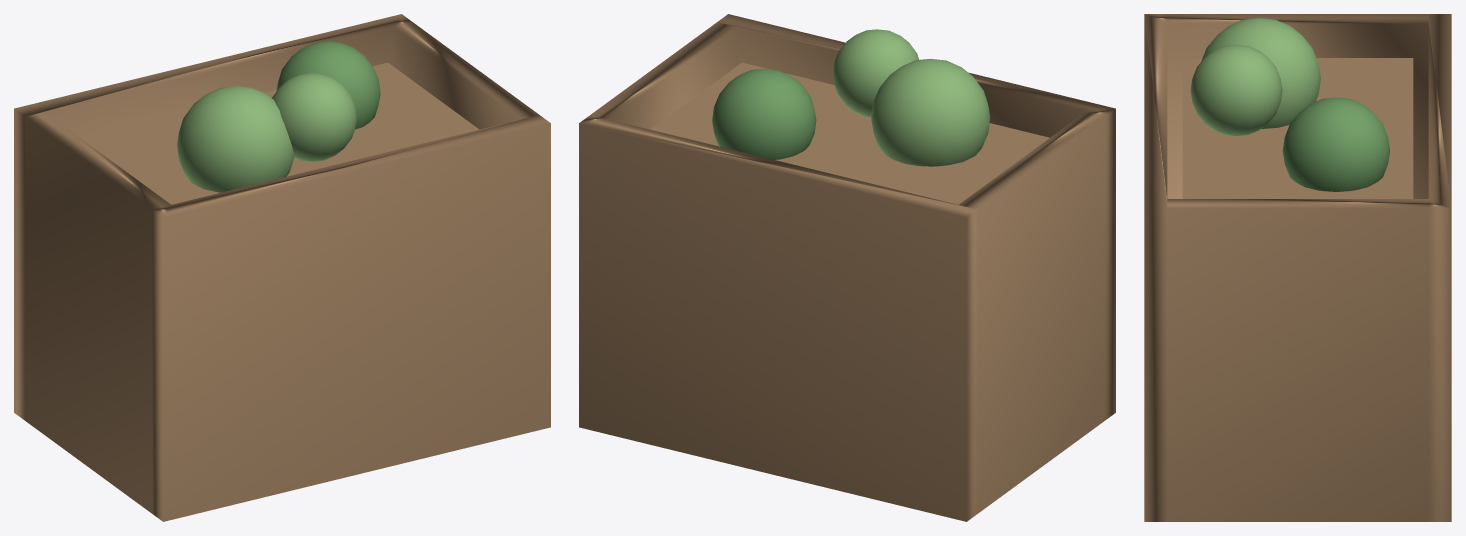
Rendered from planter_box.glb.
The picture shows the model from 3 angles, left to right: view 1: azimuth 30°, elevation 25°; view 2: azimuth 150°, elevation 25°; view 3: azimuth 270°, elevation 25°; orthographic projection. The views are drawn at different scales.
Visible parts, largest first — view 1: merged_wood_oak, dirt, foliage_1, foliage_3, foliage_2; view 2: merged_wood_oak, dirt, foliage_1, foliage_2, foliage_3; view 3: merged_wood_oak, dirt, foliage_2, foliage_3, foliage_1.
Boxes of the visible parts, <box> form: merged_wood_oak: <box>14,14,550,521</box>; dirt: <box>80,62,478,204</box>; foliage_1: <box>177,86,294,192</box>; foliage_3: <box>272,73,356,161</box>; foliage_2: <box>276,41,380,129</box>; merged_wood_oak: <box>579,14,1115,521</box>; dirt: <box>651,62,1049,204</box>; foliage_1: <box>871,58,990,166</box>; foliage_2: <box>712,68,816,159</box>; foliage_3: <box>832,29,918,117</box>; merged_wood_oak: <box>1144,14,1451,521</box>; dirt: <box>1182,58,1413,198</box>; foliage_2: <box>1282,97,1389,191</box>; foliage_3: <box>1190,44,1282,136</box>; foliage_1: <box>1201,18,1320,128</box>.
Size of the model in its own units: 0.6 by 0.54 by 0.4.
